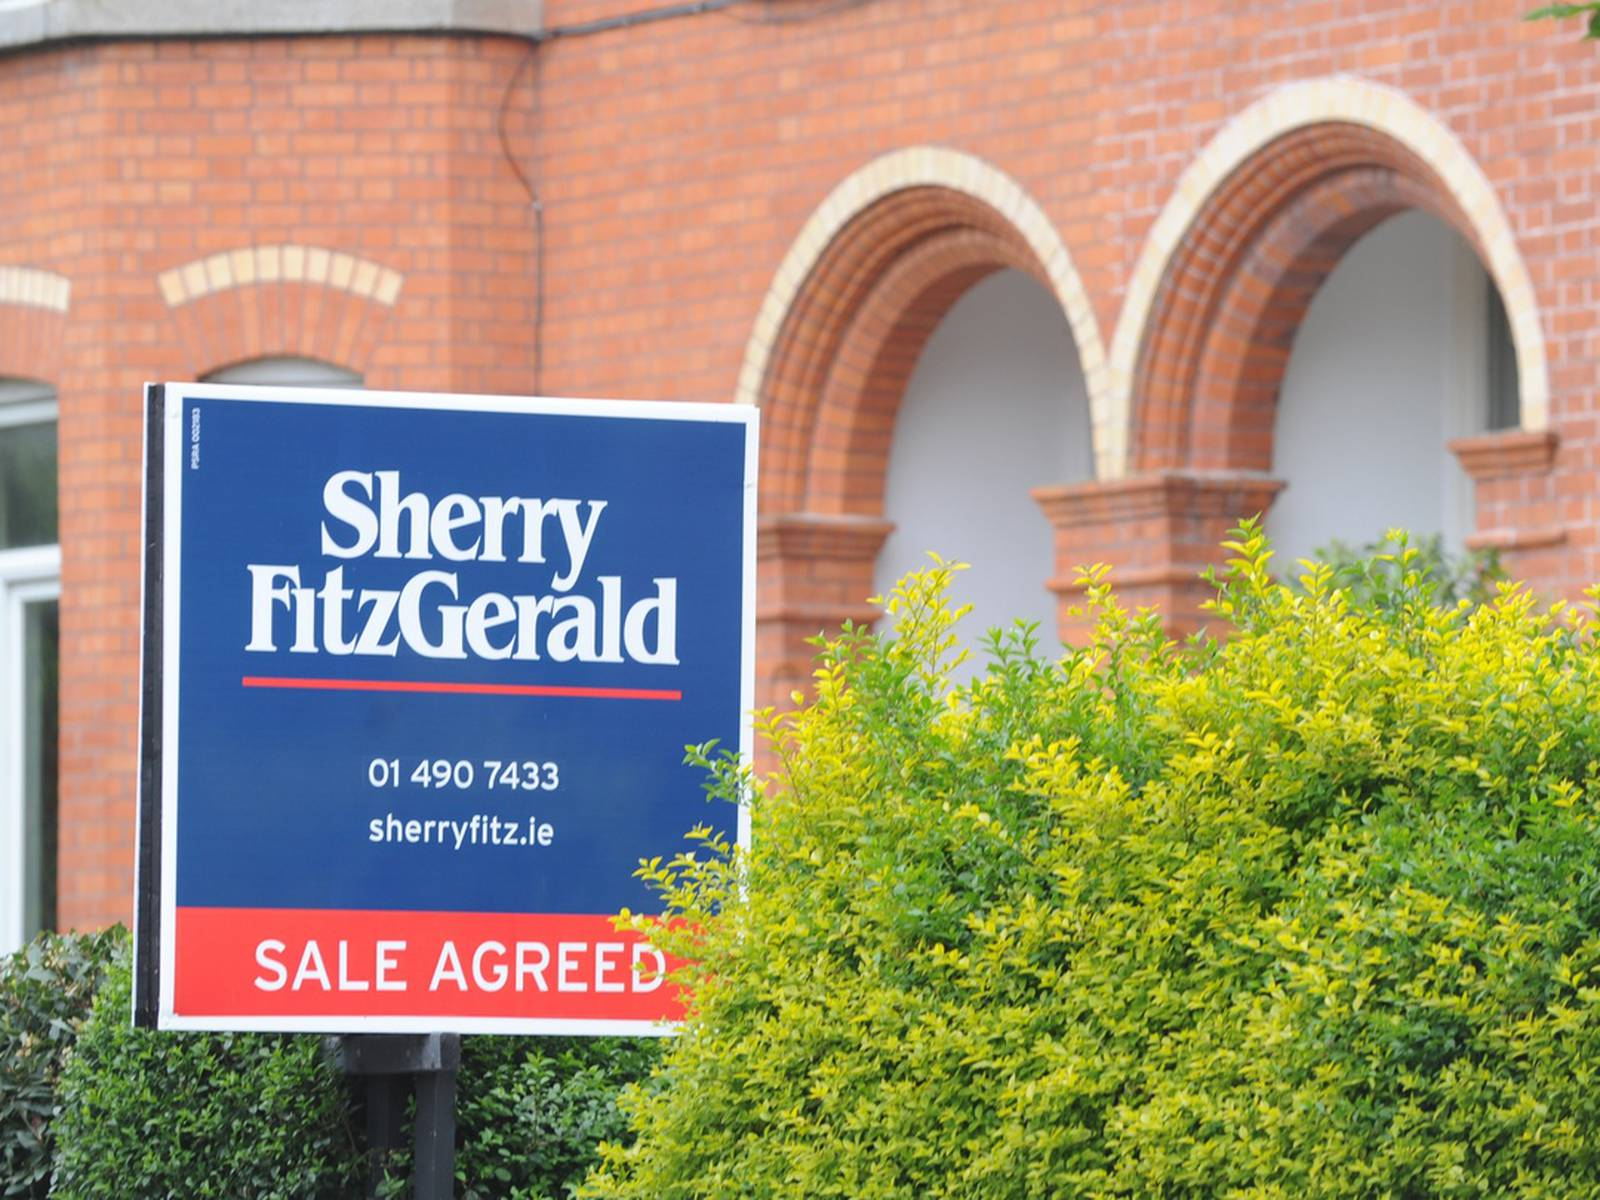property sign: (107, 345, 782, 1059)
